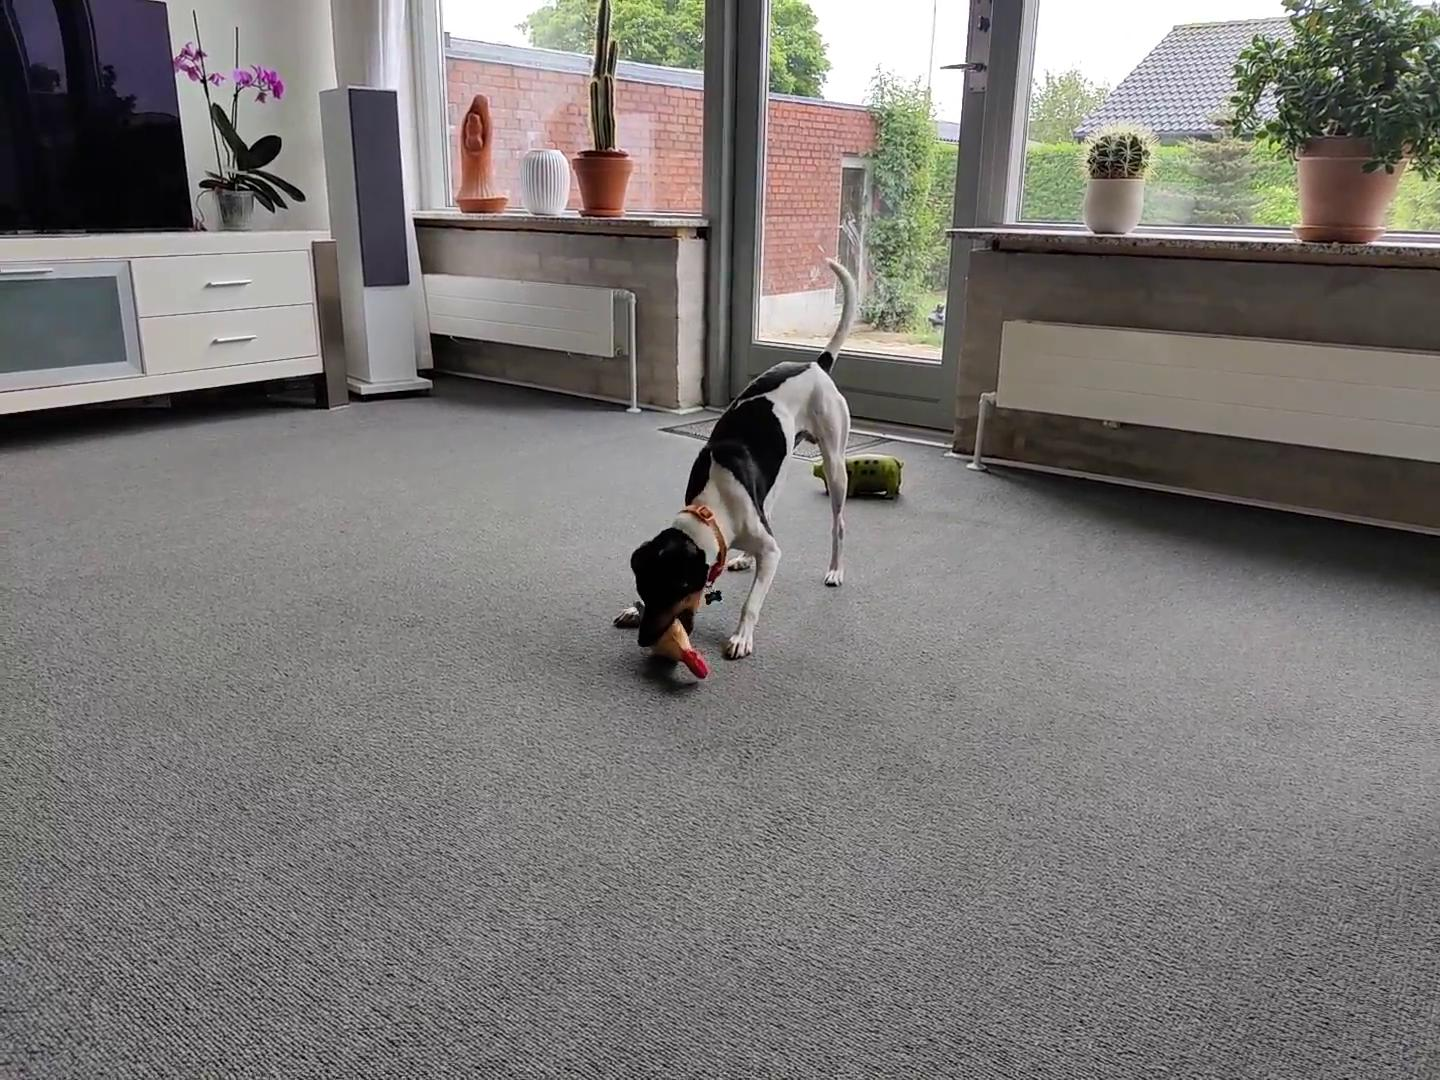Dog: (612, 255, 858, 665)
